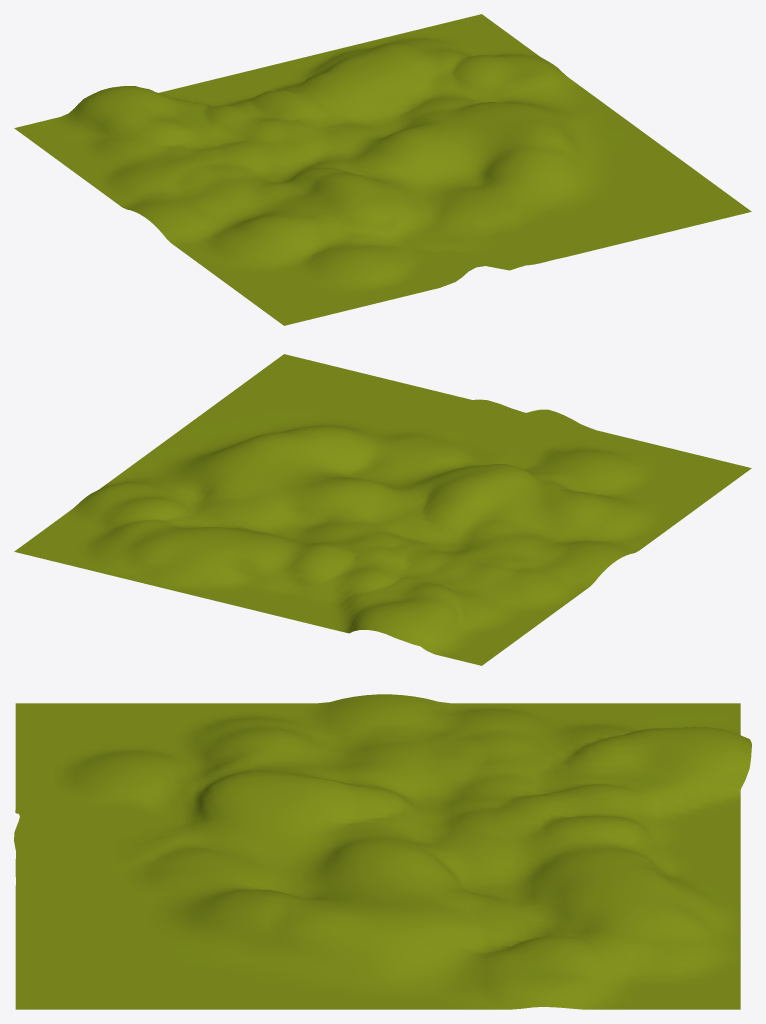
File: WG_Terrain_GroundPlane.fbx
3 renders of one model, top to bottom at view 1: azimuth 30°, elevation 25°; view 2: azimuth 150°, elevation 25°; view 3: azimuth 270°, elevation 25°, orthographic. The views are drawn at different scales.
Visible parts, largest first — view 1: WG_Terrain_GroundPlane; view 2: WG_Terrain_GroundPlane; view 3: WG_Terrain_GroundPlane.
Boxes of the visible parts, box(x1,y1,x2,y2) form: WG_Terrain_GroundPlane: box(14, 14, 751, 325); WG_Terrain_GroundPlane: box(14, 354, 751, 665); WG_Terrain_GroundPlane: box(14, 694, 751, 1009).
Size of the model in its own units: 30 by 2 by 30.54.
